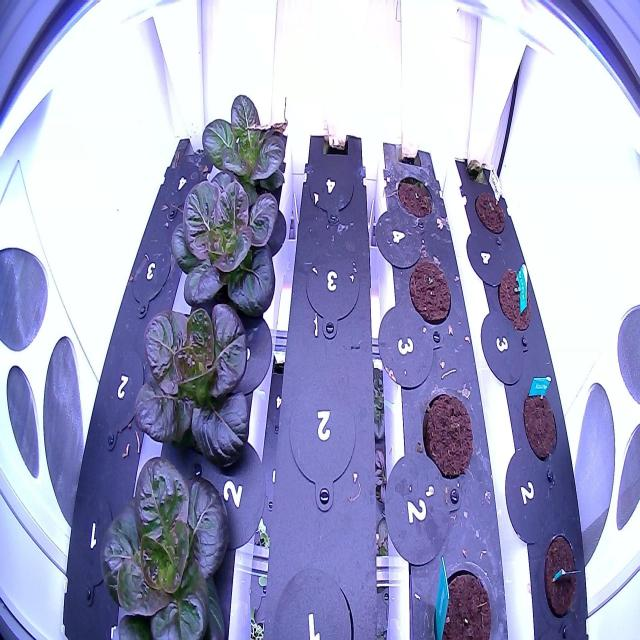empty_pod: (282, 374, 360, 514), (266, 557, 357, 639), (302, 237, 363, 339), (70, 487, 118, 608), (98, 341, 146, 454), (129, 233, 175, 321), (305, 154, 358, 226), (162, 151, 200, 222)
pod: (429, 555, 496, 639), (418, 390, 477, 483), (539, 528, 578, 624), (405, 253, 453, 331), (520, 382, 562, 470), (494, 260, 537, 338), (470, 182, 511, 246), (393, 171, 436, 221)
young: (95, 439, 231, 640), (126, 276, 256, 479), (164, 159, 294, 325), (195, 85, 290, 210)
